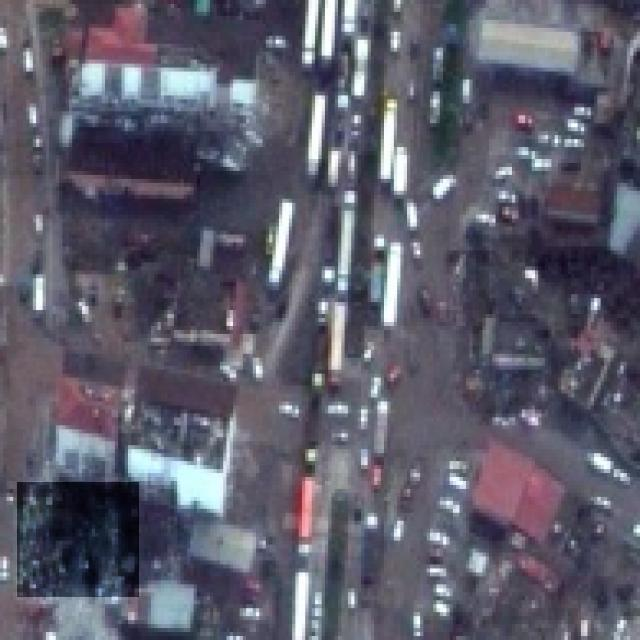Rubble: (17, 482, 139, 597)
